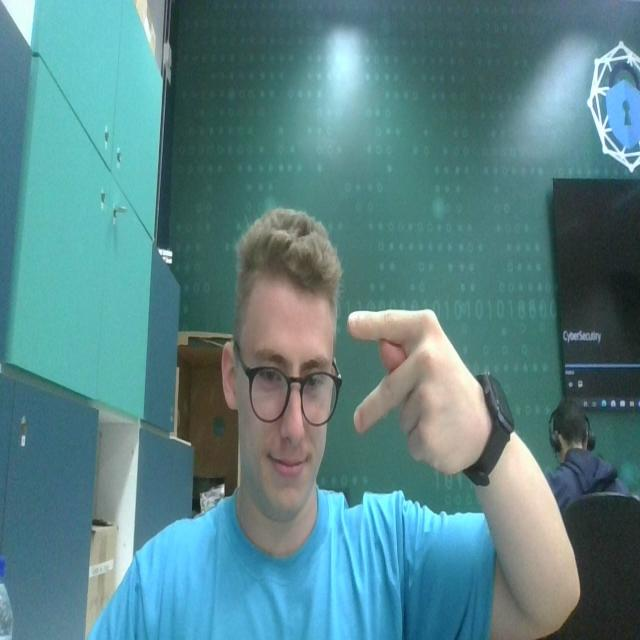P: (340, 289, 471, 484)
